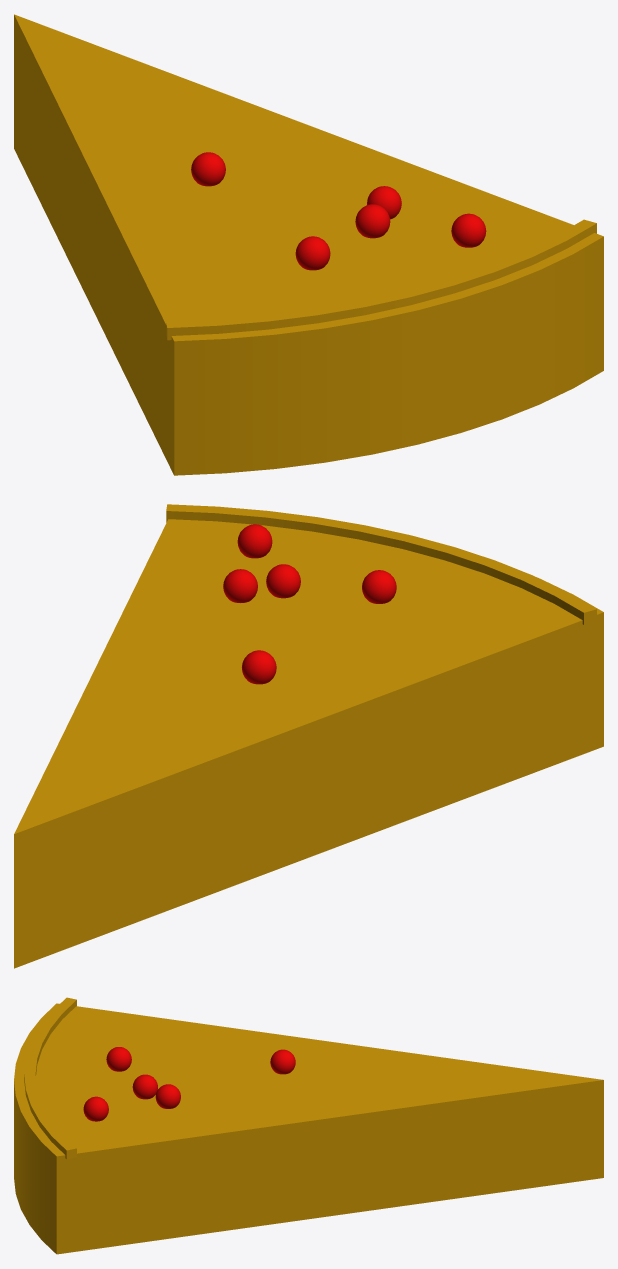
3 views of the same model, one above another, from view 1: azimuth 30°, elevation 25°; view 2: azimuth 150°, elevation 25°; view 3: azimuth 270°, elevation 25° (orthographic). The views are drawn at different scales.
Parts seen in each view (by area): view 1: body, rim, bump.001, bump.003, bump.004, bump, bump.002; view 2: body, rim, bump.003, bump, bump.001, bump.002, bump.004; view 3: body, rim, bump, bump.001, bump.003, bump.004, bump.002.
Part boxes in pixels (<box>): body: <box>14,14,603,475</box>; rim: <box>166,219,596,340</box>; bump.001: <box>355,204,390,238</box>; bump.003: <box>191,152,225,186</box>; bump.004: <box>295,236,330,270</box>; bump: <box>451,213,486,247</box>; bump.002: <box>367,186,401,219</box>; body: <box>14,519,603,968</box>; rim: <box>166,504,596,624</box>; bump.003: <box>242,650,276,684</box>; bump: <box>237,524,272,558</box>; bump.001: <box>266,564,300,598</box>; bump.002: <box>223,569,257,602</box>; bump.004: <box>362,570,396,603</box>; body: <box>14,1003,603,1254</box>; rim: <box>24,997,76,1159</box>; bump: <box>83,1096,108,1121</box>; bump.001: <box>132,1074,157,1099</box>; bump.003: <box>270,1049,295,1074</box>; bump.004: <box>106,1047,131,1071</box>; bump.002: <box>155,1084,180,1108</box>.
Bounding box in the file's own units: 0.1105 × 0.0398 × 0.18.
